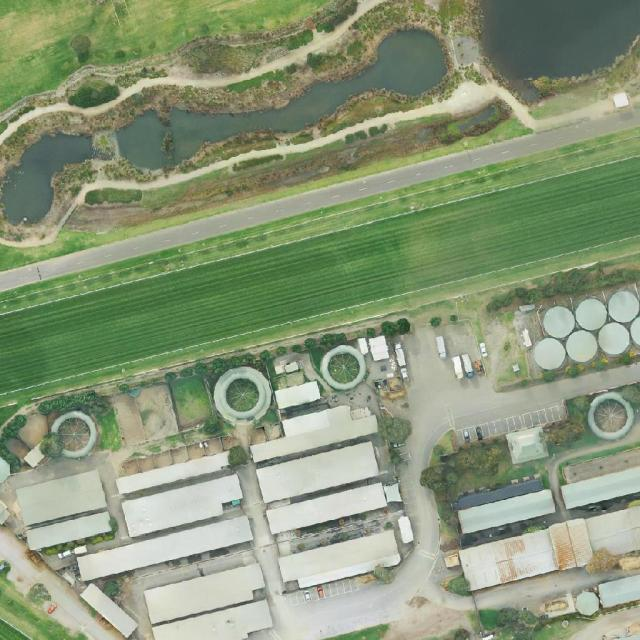greenland: (0, 0, 329, 111), (64, 31, 99, 65)
